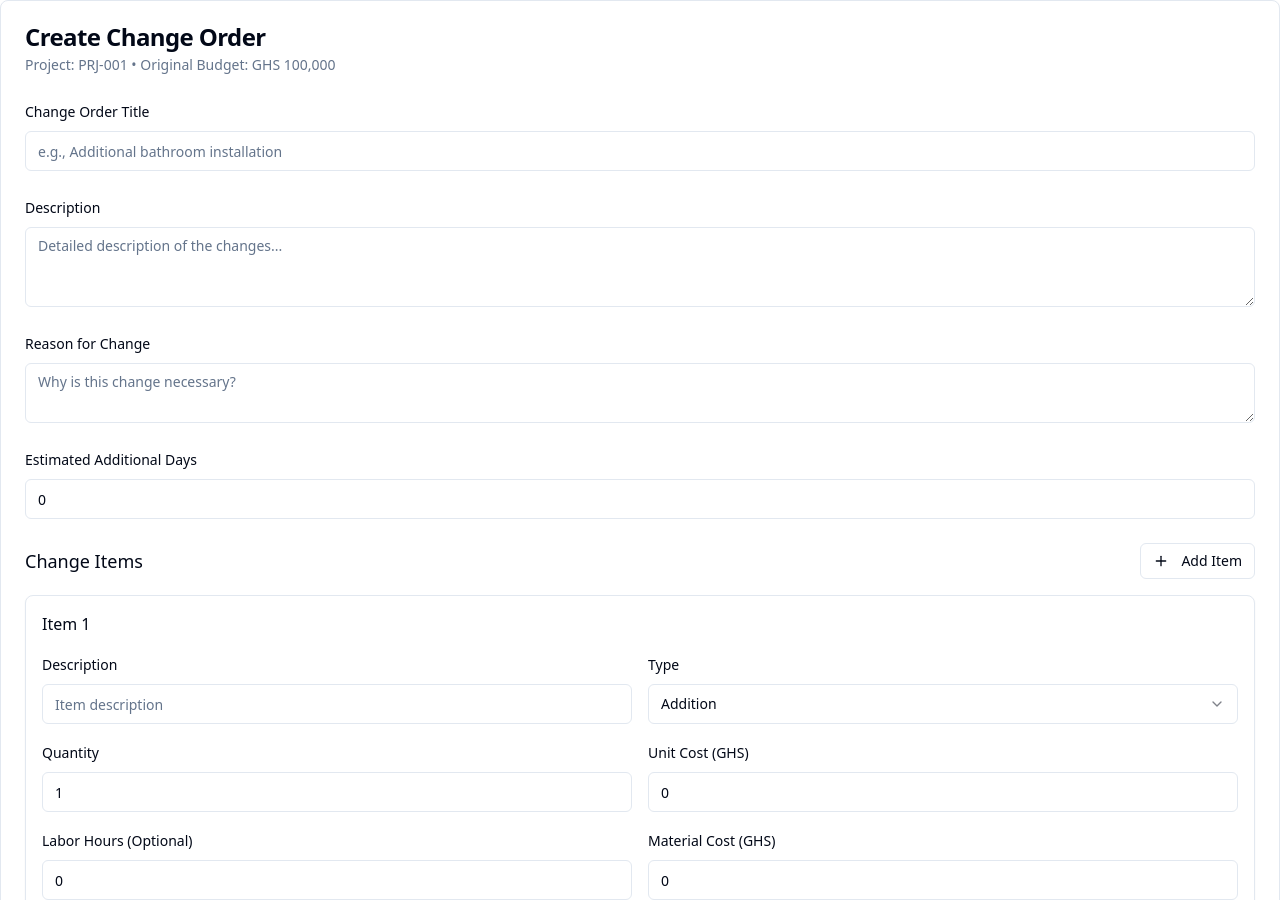
Test case: ChangeOrderForm › calculates cost impact correctly for additions
Replace the text in the number field labelled "Quantity" with "2" at (337, 792), box [42,772,632,812]
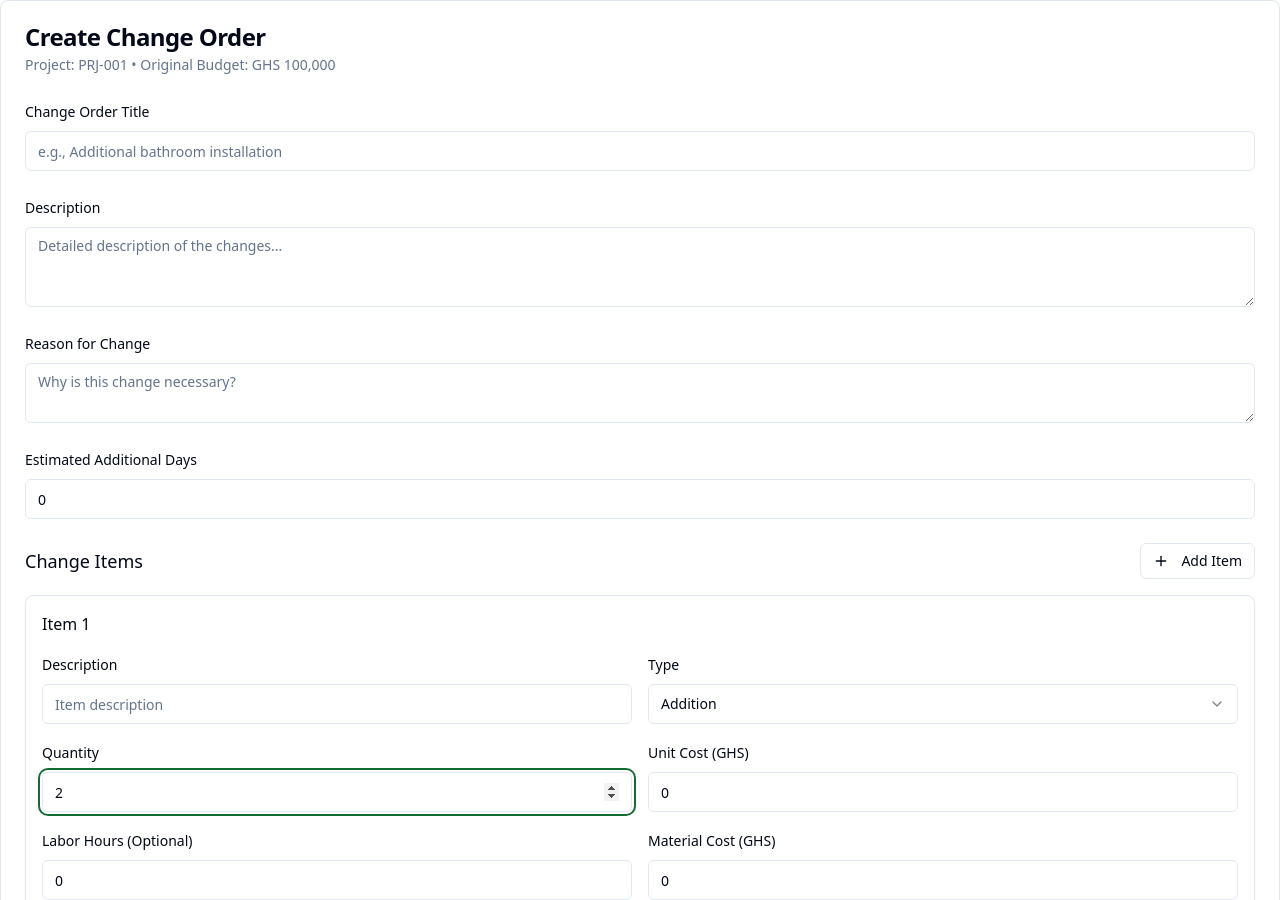
Replace the text in the number field labelled "Unit Cost (GHS)" with "5000" at (943, 792), box [648,772,1238,812]
(page scrolled)
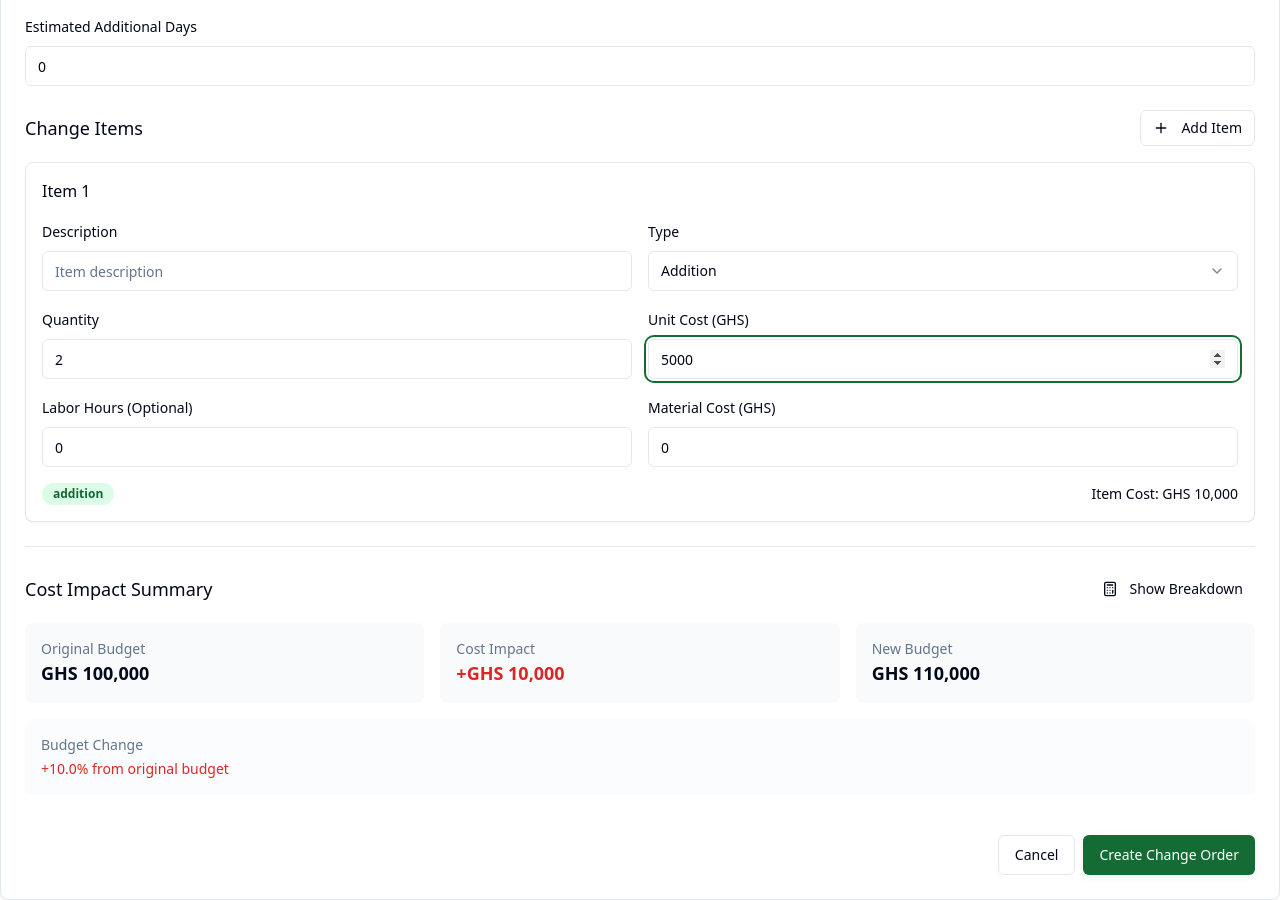
Now the text "Item Cost: GHS 10,000" is shown, box [1091,484,1238,504]
Now the text "+GHS 10,000" is shown, box [456,661,565,685]
Now the text "GHS 110,000" is shown, box [872,661,980,685]
